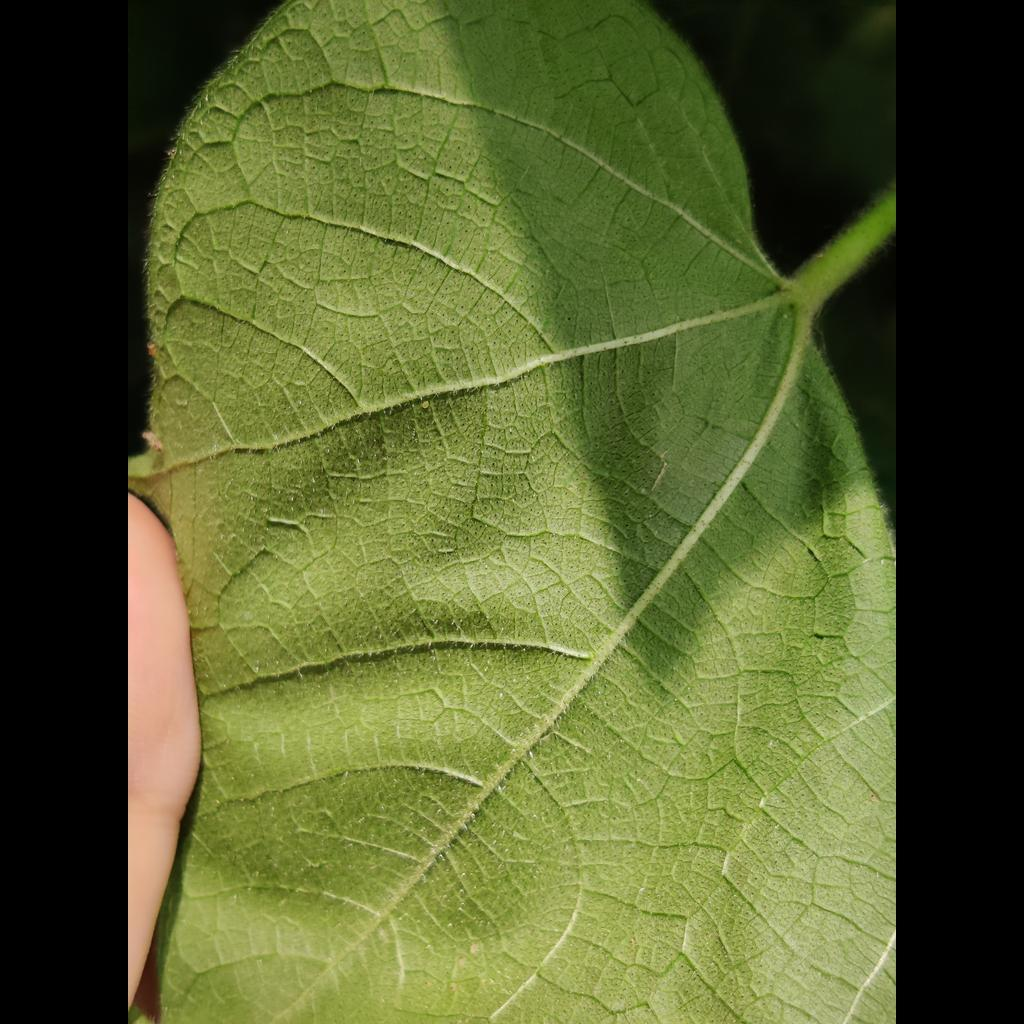nymph: (758, 797, 765, 808), (421, 401, 429, 409), (528, 750, 534, 759)
